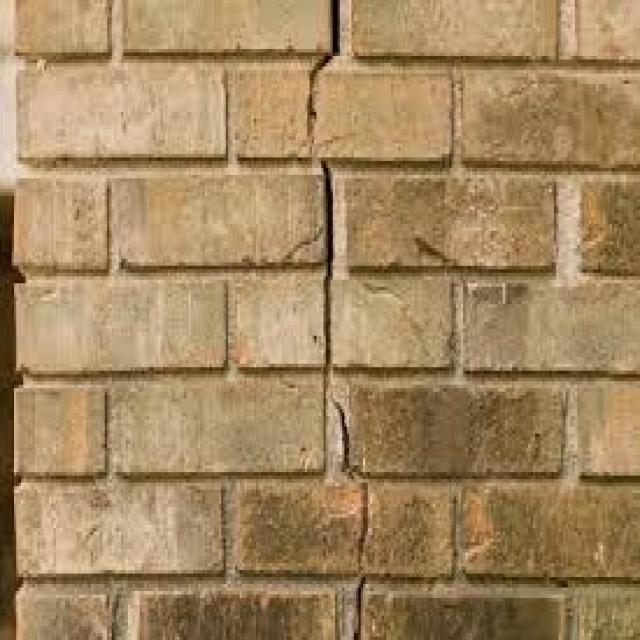Crack: (298, 0, 370, 637)
